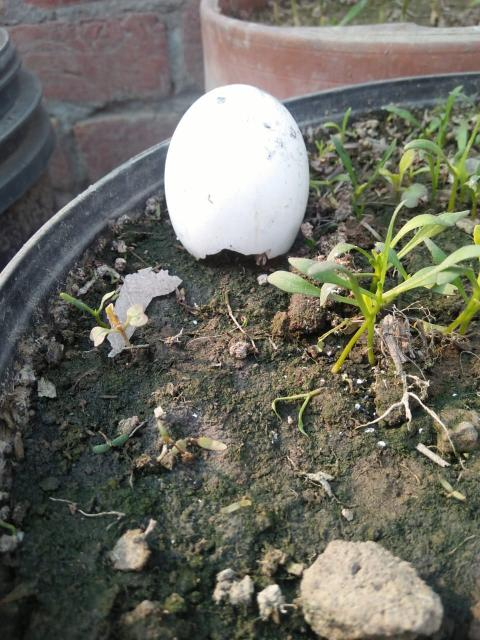Roto: (162, 82, 310, 264)
